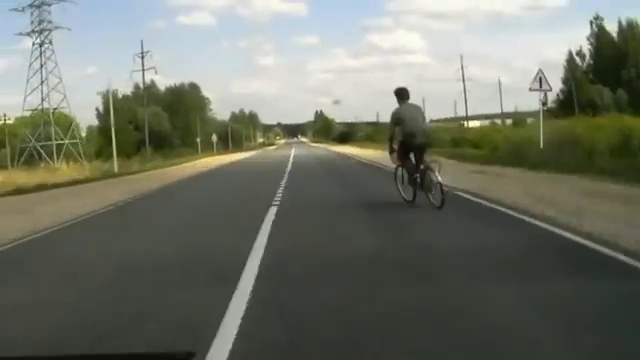cyclist_back: (386, 84, 450, 215)
